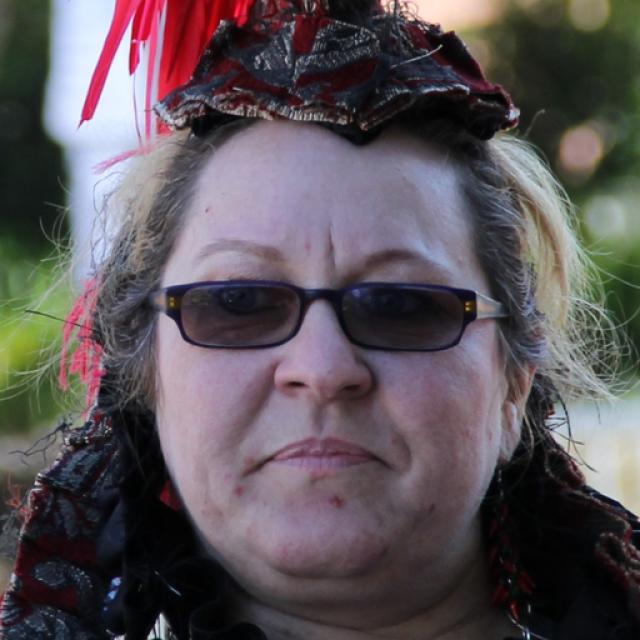disgust: (153, 105, 504, 582)
